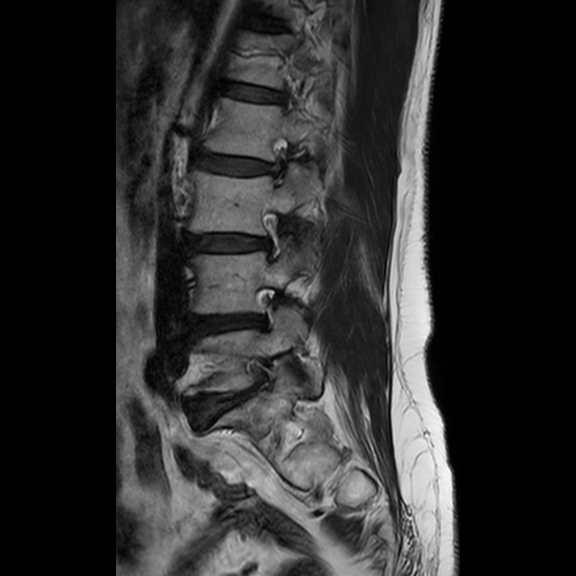RFS0: (254, 198, 291, 270)
RFS1: (245, 273, 284, 339)
RFS3: (238, 345, 284, 405)
